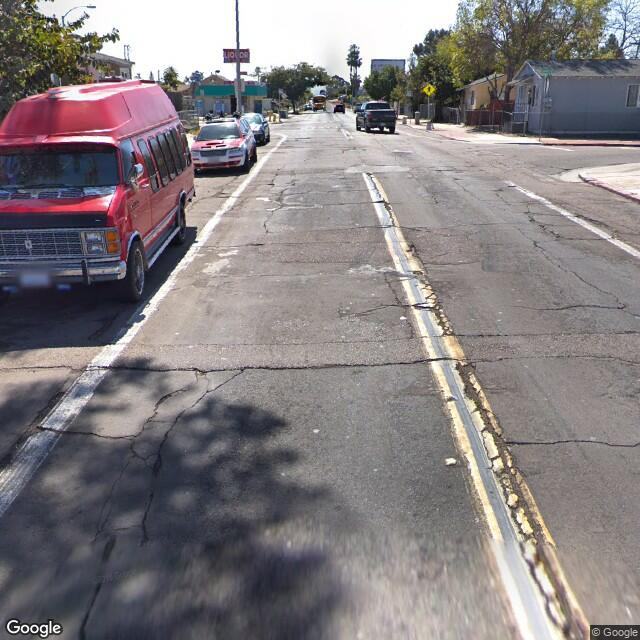road line: (355, 214, 483, 459)
